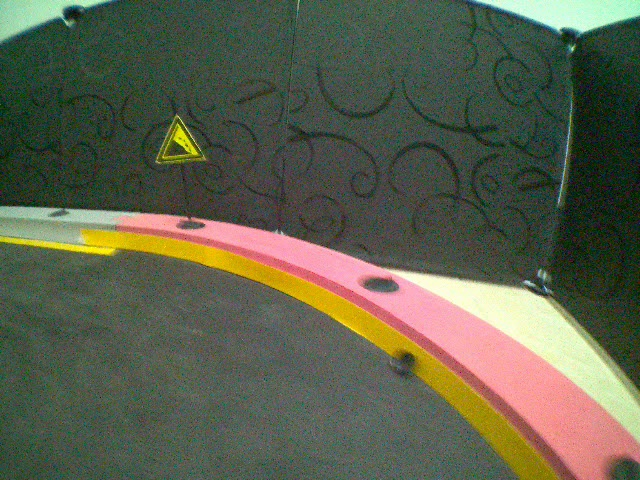fast: (147, 113, 208, 166)
